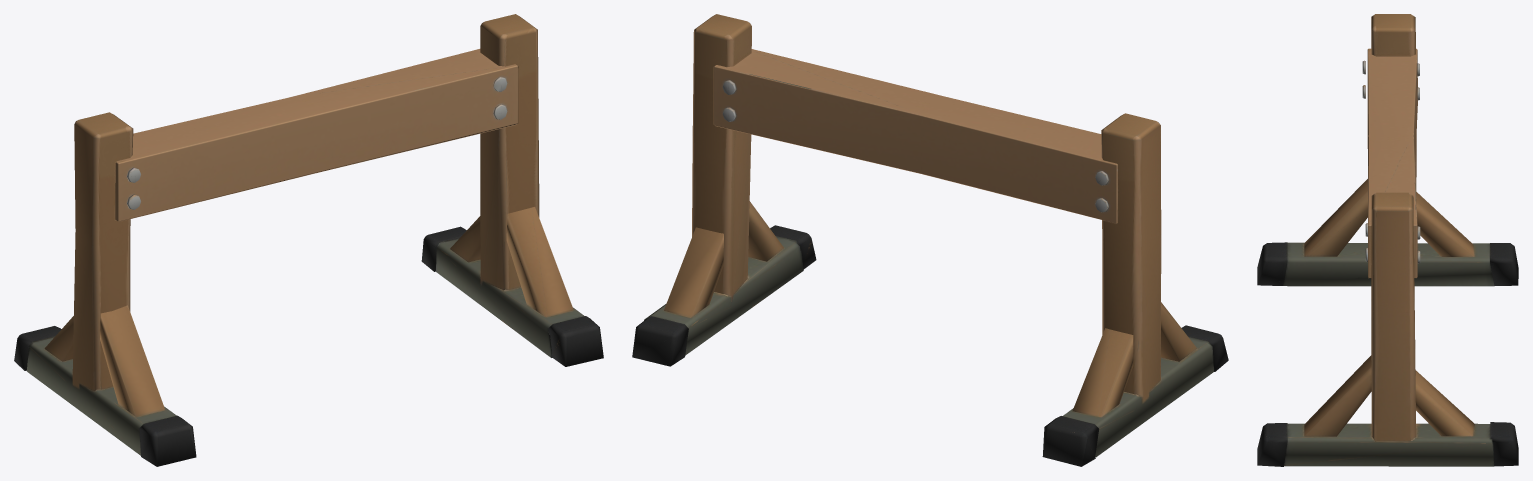
Rendered from hurdle.glb.
3 views of the same model, side by side, from view 1: azimuth 30°, elevation 25°; view 2: azimuth 150°, elevation 25°; view 3: azimuth 270°, elevation 25° (orthographic). The views are drawn at different scales.
Bounding box in the file's own units: 0.9575 × 0.5781 × 0.5312.
1 material, 1 textured.
